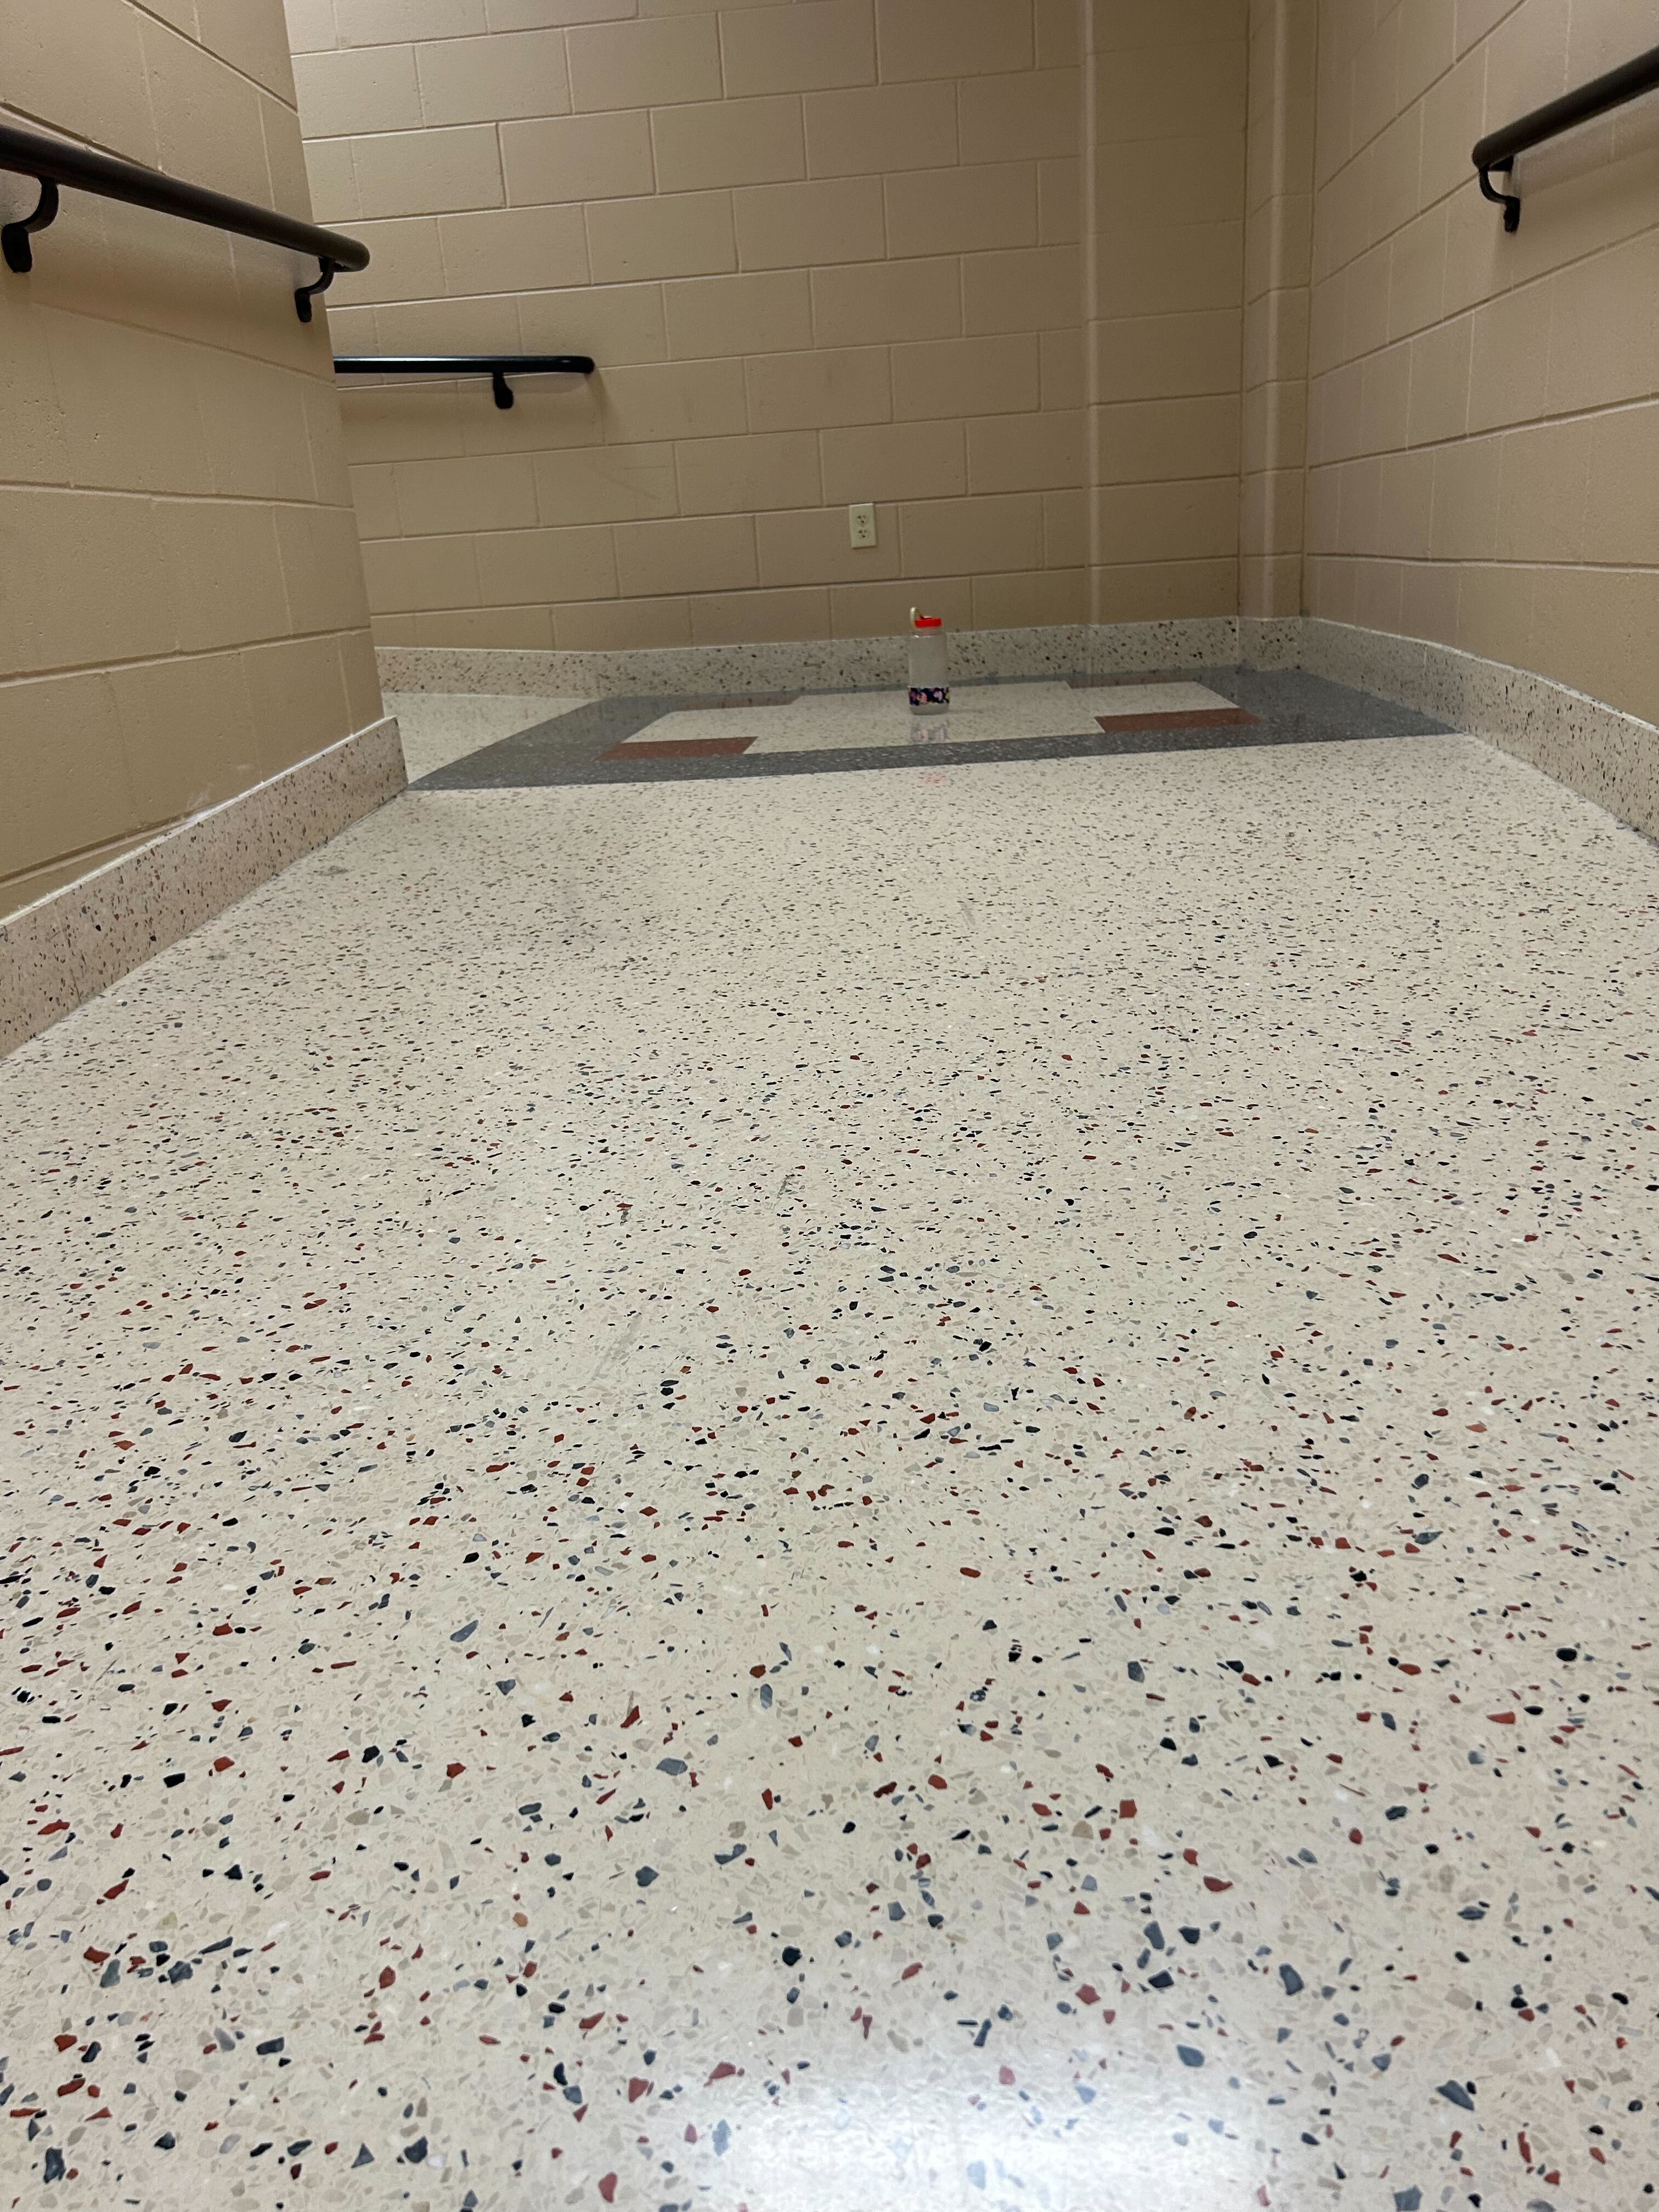bottle: (904, 590, 953, 726)
